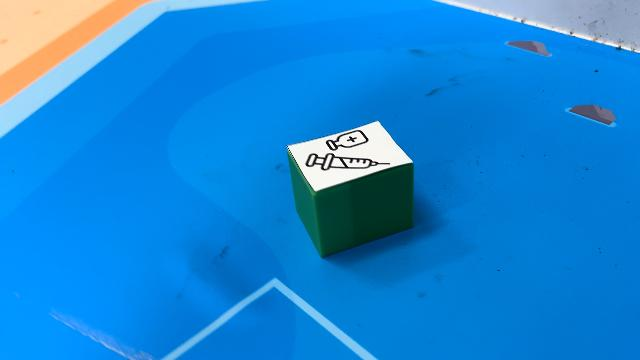syringe: (289, 121, 415, 260)
